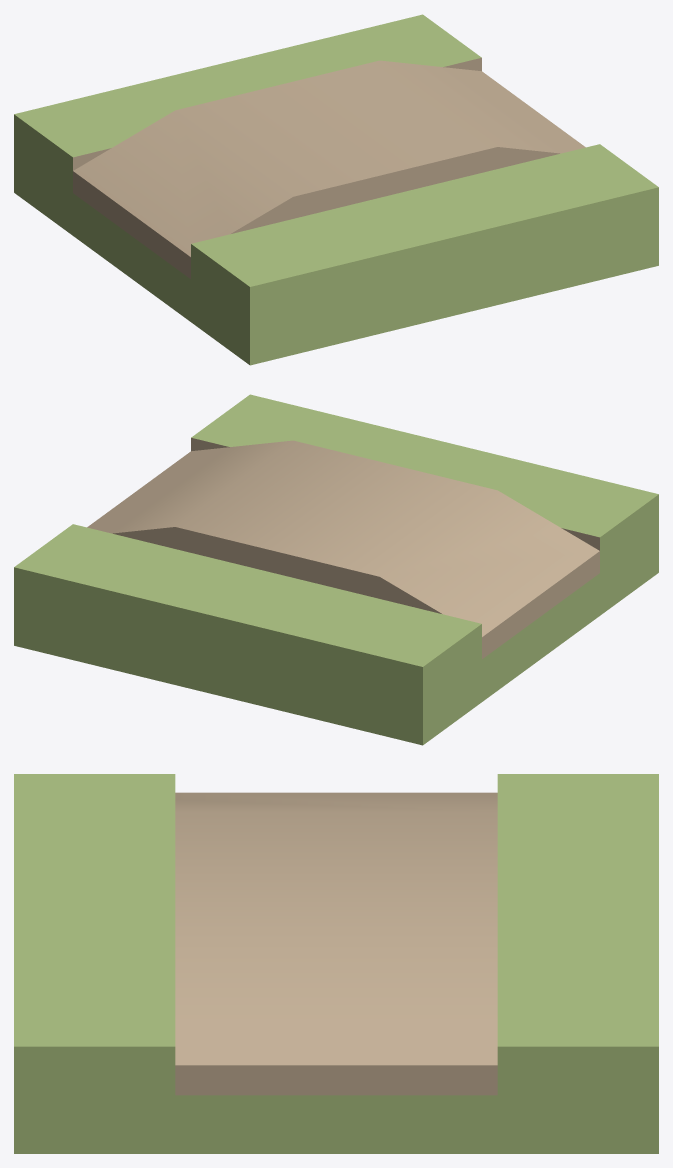
The model's file is SM_GRASS_01.fbx.
The picture shows the model from 3 angles, top to bottom: view 1: azimuth 30°, elevation 25°; view 2: azimuth 150°, elevation 25°; view 3: azimuth 270°, elevation 25°; orthographic projection. The views are drawn at different scales.
Visible parts, largest first — view 1: GRASS_01; view 2: GRASS_01; view 3: GRASS_01.
Boxes of the visible parts, x1,y1,x2,y2 form: GRASS_01: (14,14,658,365); GRASS_01: (14,394,658,745); GRASS_01: (14,774,658,1153).
Bounding box in the file's own units: 437 × 103 × 437.
